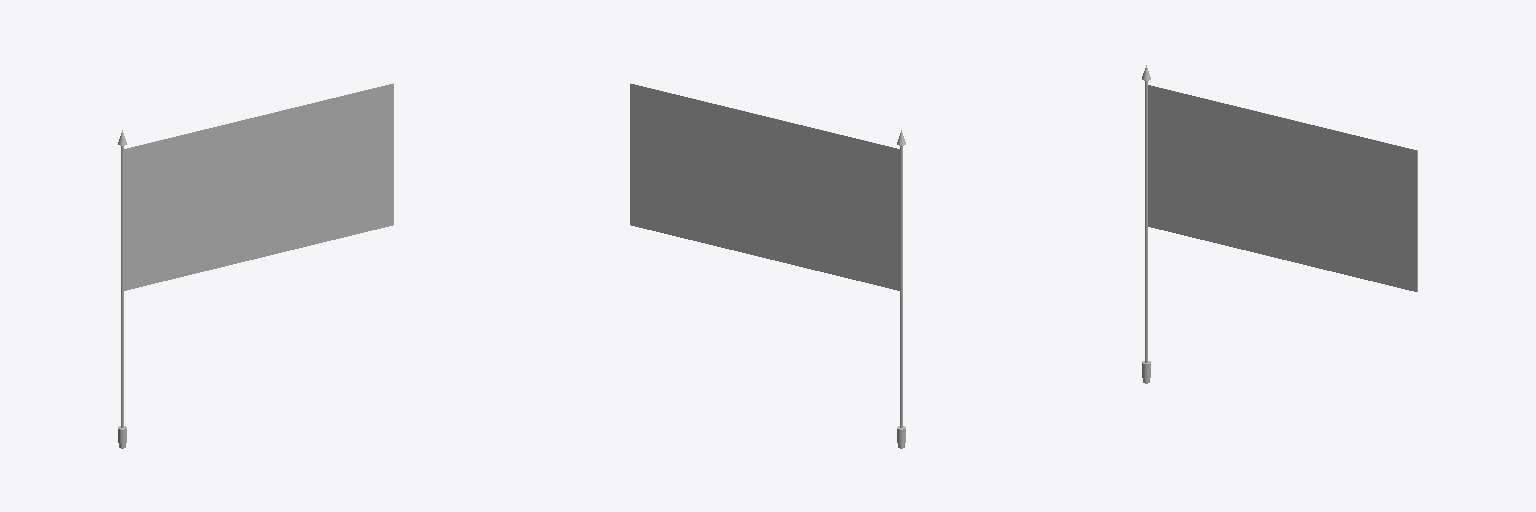
Rendered from big_flag.obj.
3 views of the same model, side by side, from view 1: azimuth 30°, elevation 25°; view 2: azimuth 150°, elevation 25°; view 3: azimuth 330°, elevation 25° (orthographic).
Visible parts, largest first — view 1: 円柱; view 2: 円柱; view 3: 円柱.
Boxes of the visible parts, x1=… form: 円柱: x1=118, y1=83, x2=393, y2=448; 円柱: x1=630, y1=83, x2=905, y2=448; 円柱: x1=1142, y1=65, x2=1417, y2=383.
Bounding box in the file's own units: 2.03 × 2.24 × 0.06.